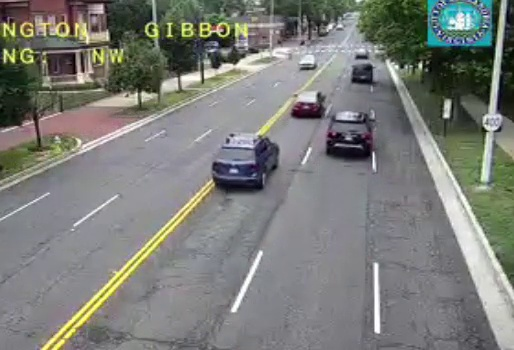car: (212, 135, 280, 184), (327, 111, 373, 150), (292, 93, 322, 116), (351, 63, 373, 83)
